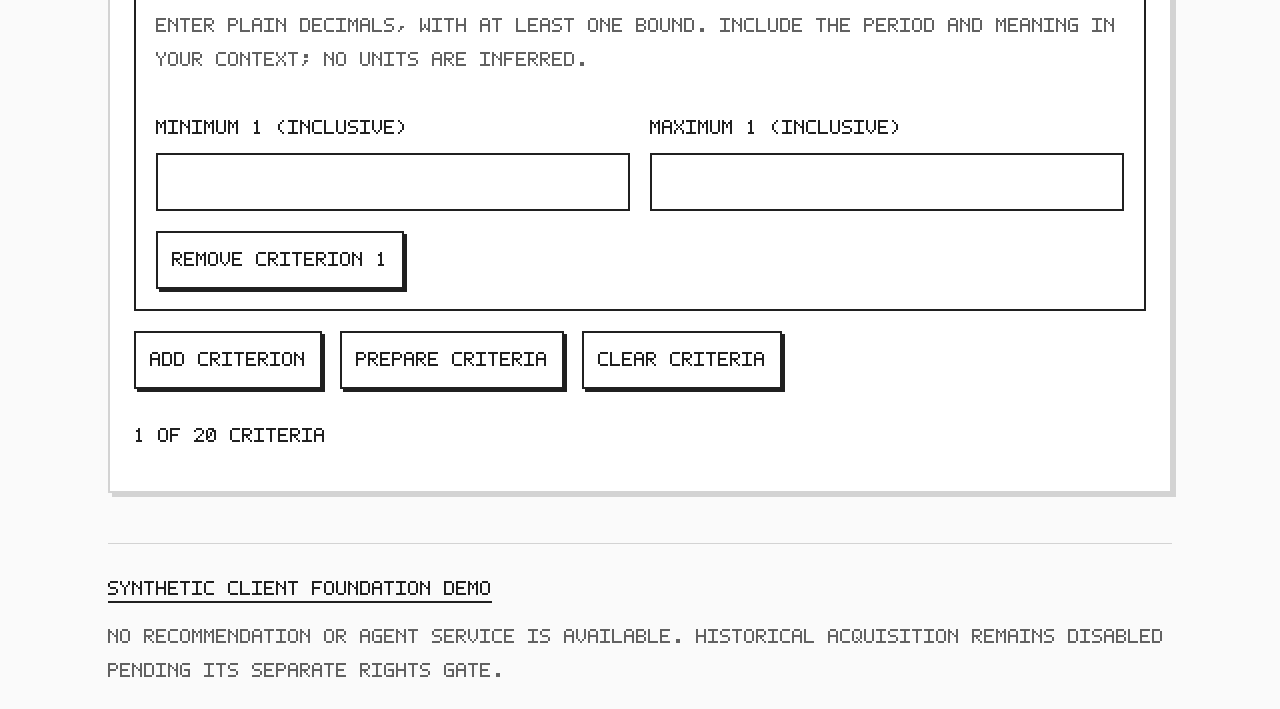
Scenario: tab-memory custom criteria editor › focuses the first error and associates field-level errors
(page scrolled)
Click the button "Prepare criteria" at (452, 360), box [340,331,564,389]
(page scrolled)
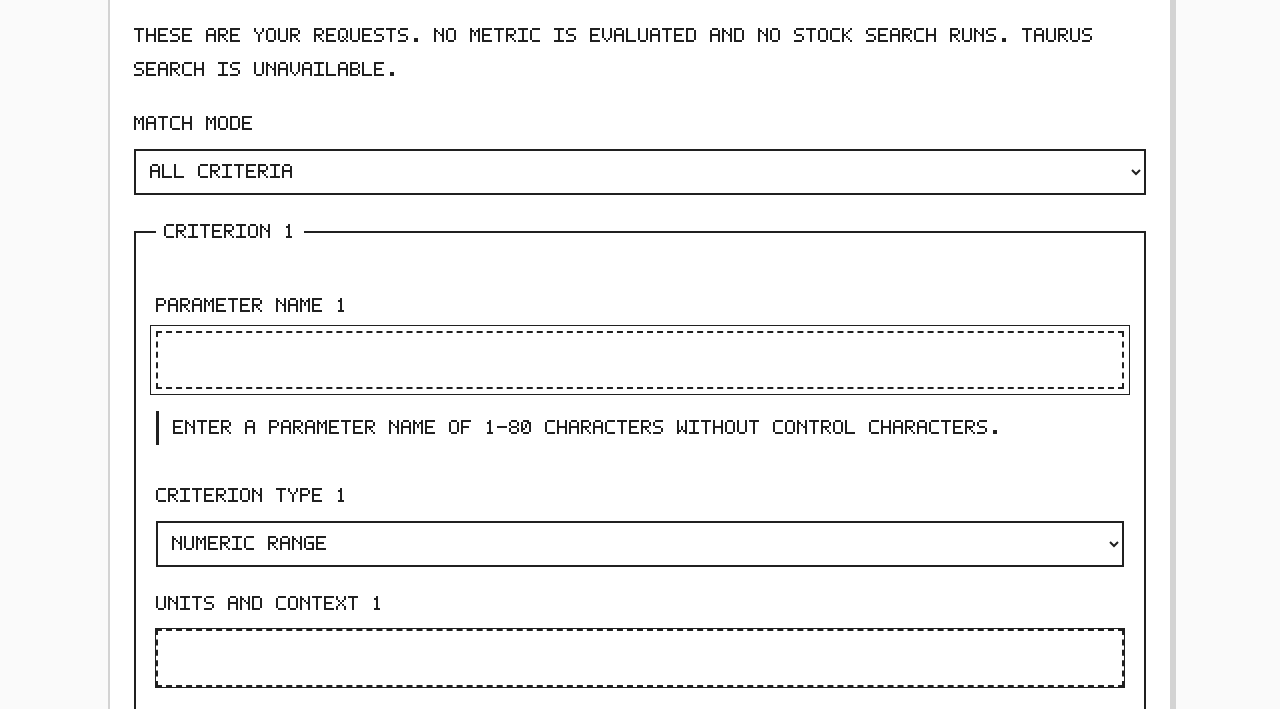
Now the field labelled "Parameter name 1" is marked as invalid
Type "User EPS request" into the field labelled "Parameter name 1" at (640, 360), box [156,331,1124,389]
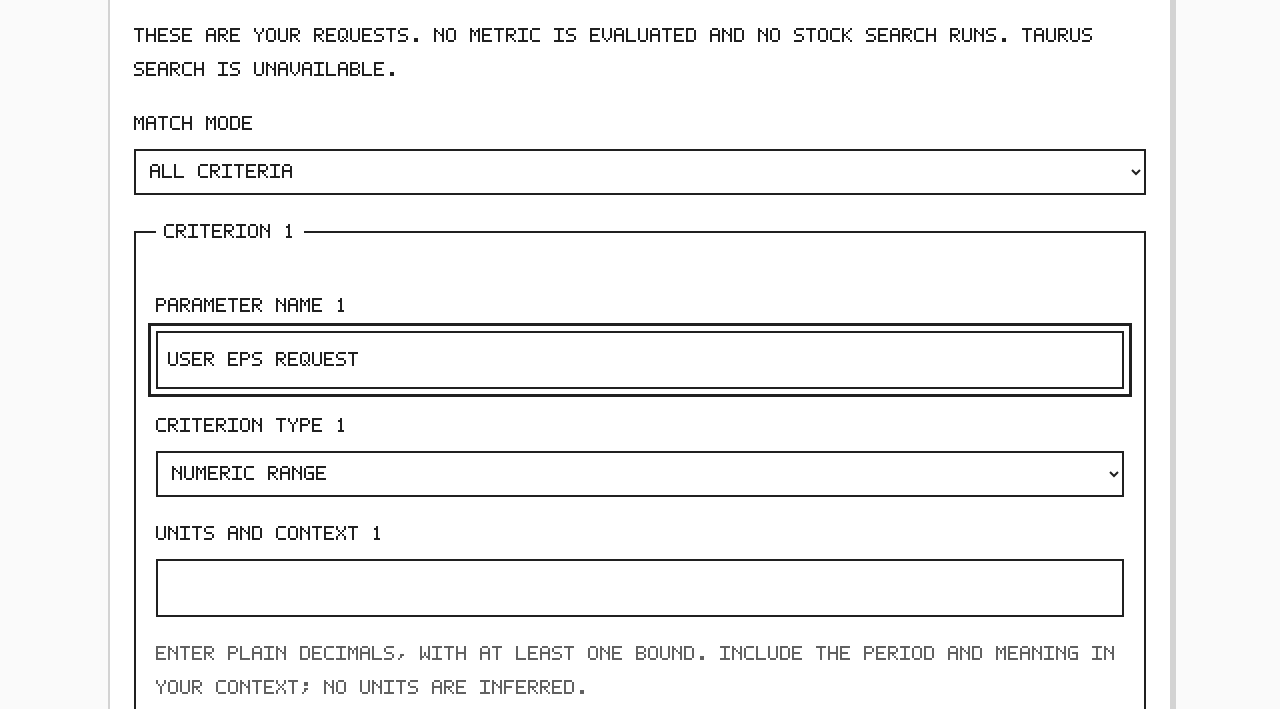
Type "User-specified currency/share, period and basis unresolved" into the field labelled "Units and context 1" at (640, 588), box [156,559,1124,617]
(page scrolled)
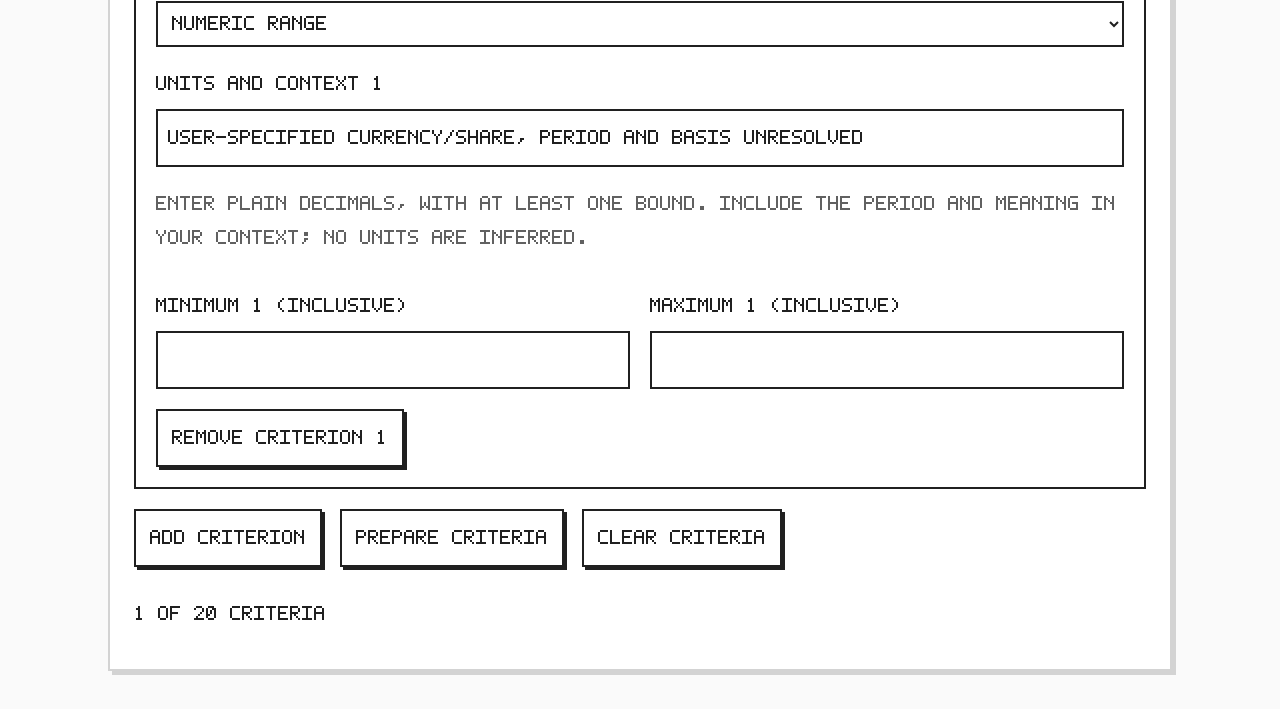
Type "-0.2500" into the field labelled "Minimum 1 (inclusive)" at (393, 360), box [156,331,630,389]
Type "1.250000000000000001" into the field labelled "Maximum 1 (inclusive)" at (887, 360), box [650,331,1124,389]
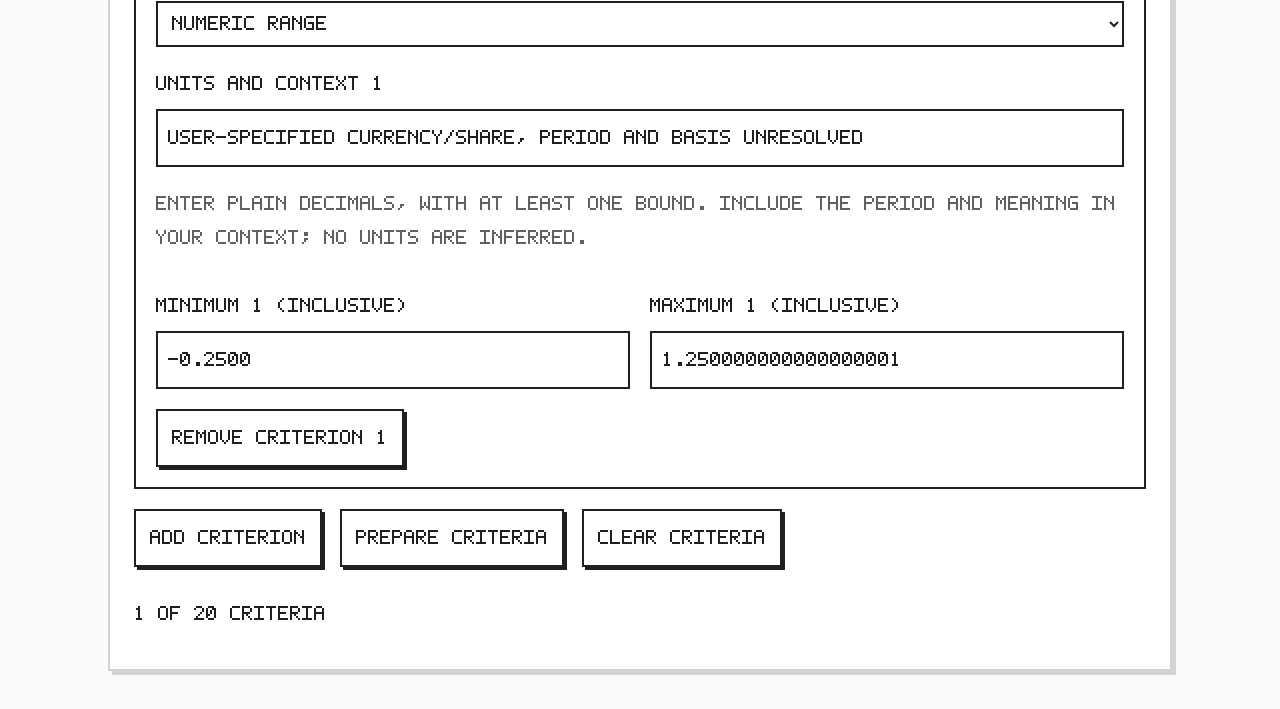
Replace the text in the field labelled "Minimum 1 (inclusive)" with "2" at (393, 360), box [156,331,630,389]
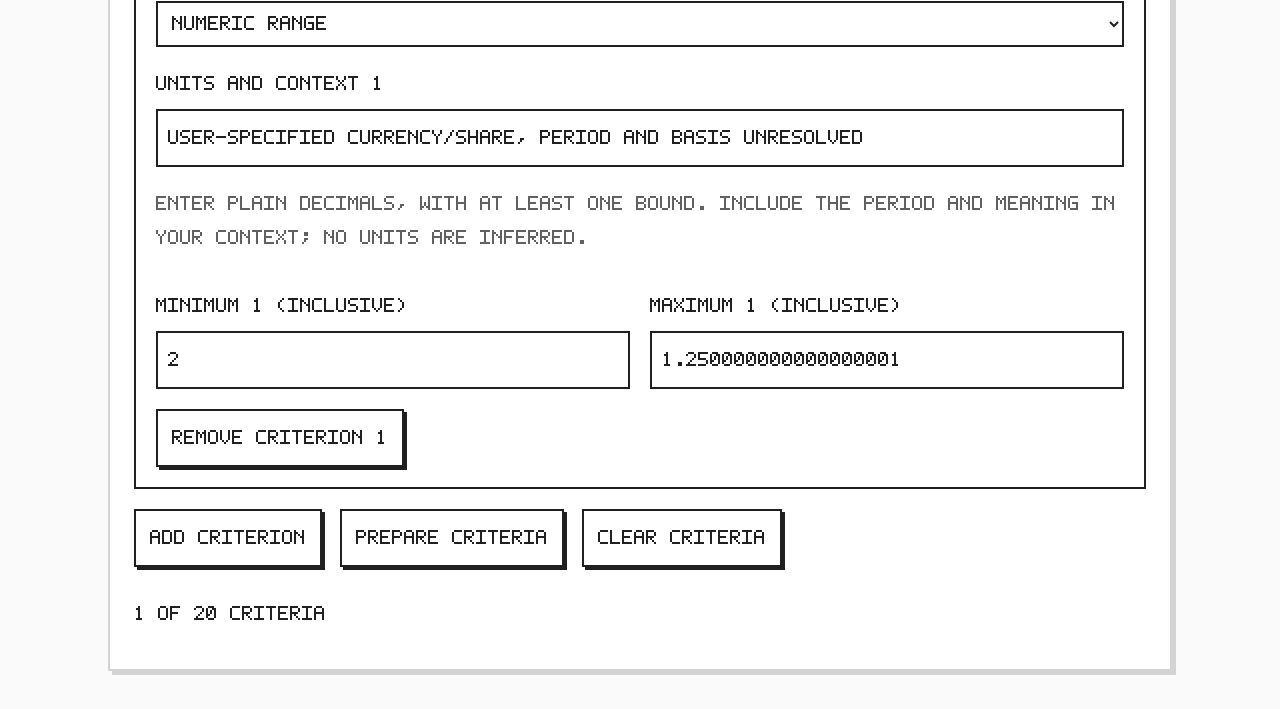
Click the button "Prepare criteria" at (452, 538), box [340,509,564,567]
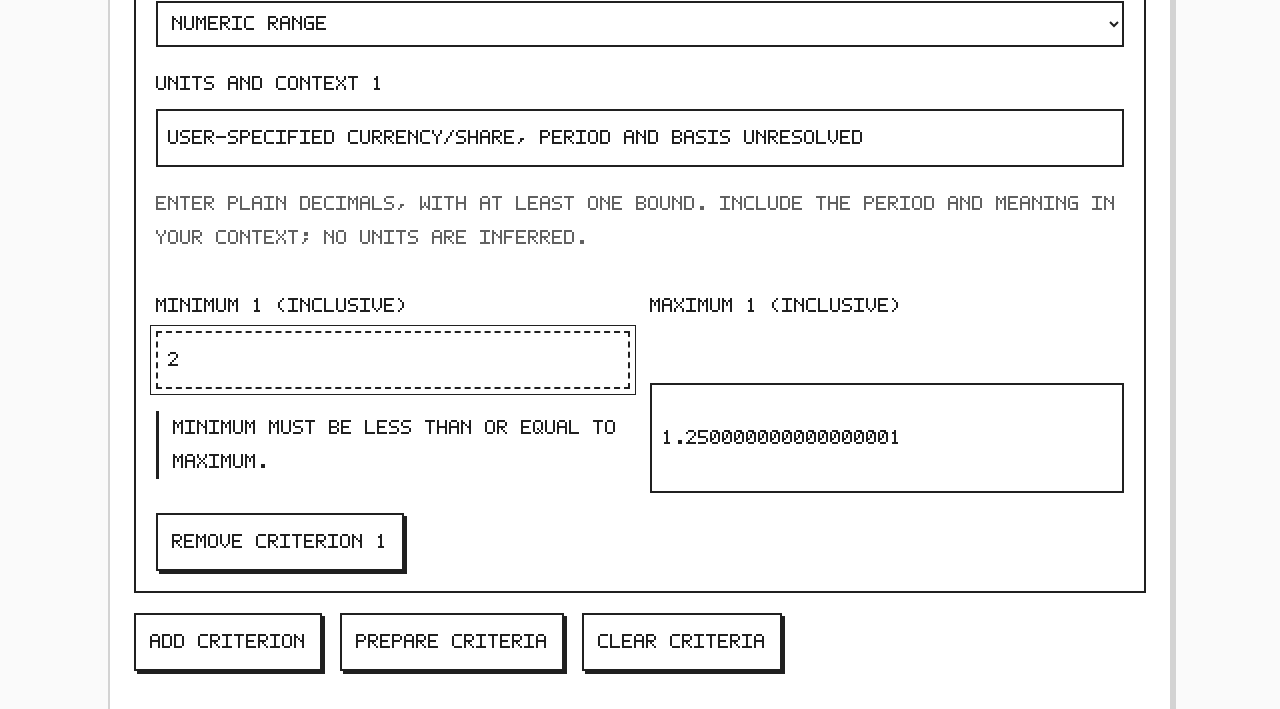
Now the text "Minimum must be less than or equal to maximum." is shown, box [156,411,630,479]
